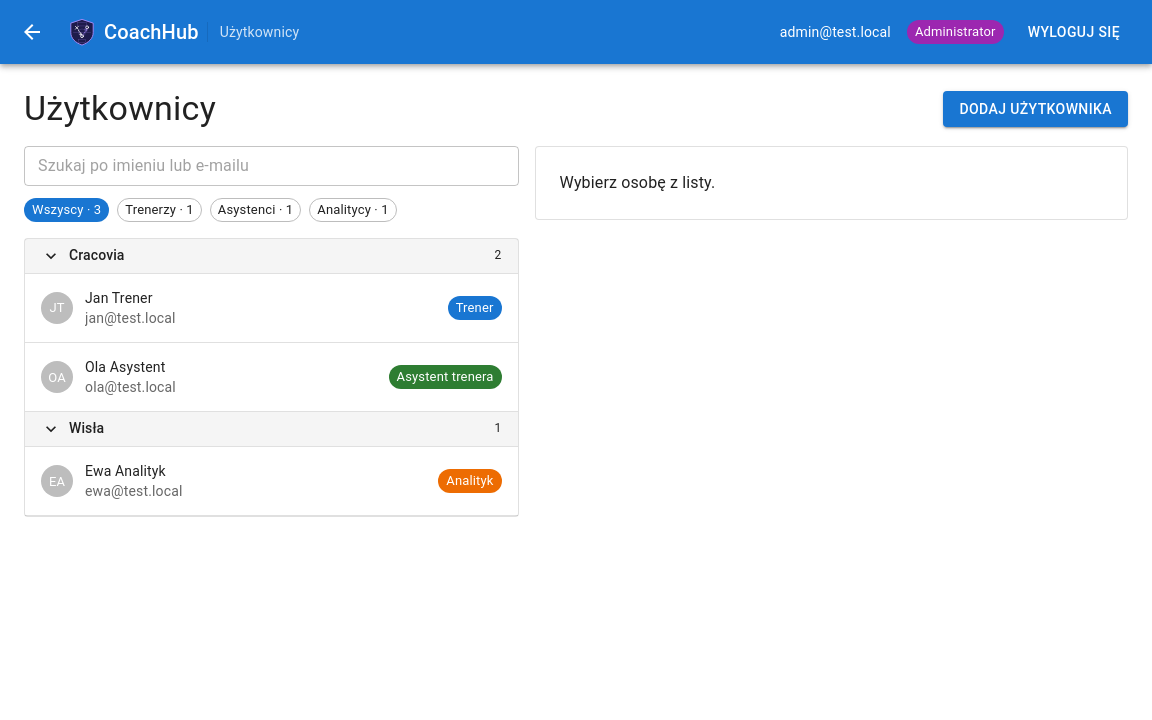
users list › filters by role
Expected: the text "Jan Trener" is shown, [85,290,153,306]
Click the button "Analitycy · 1" at (353, 210), box [309,198,397,222]
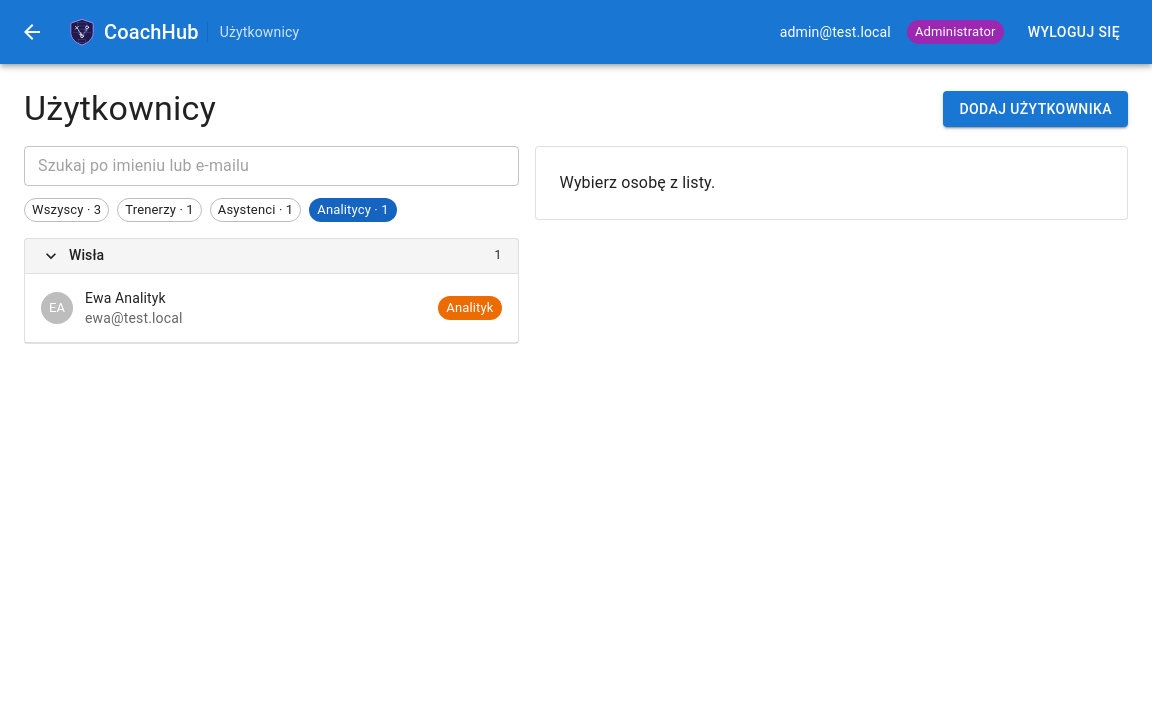
Expected: the text "Ewa Analityk" is shown, [85,290,166,306]
Result: the button "Jan Trener" is gone
Result: the button "Cracovia" is gone
